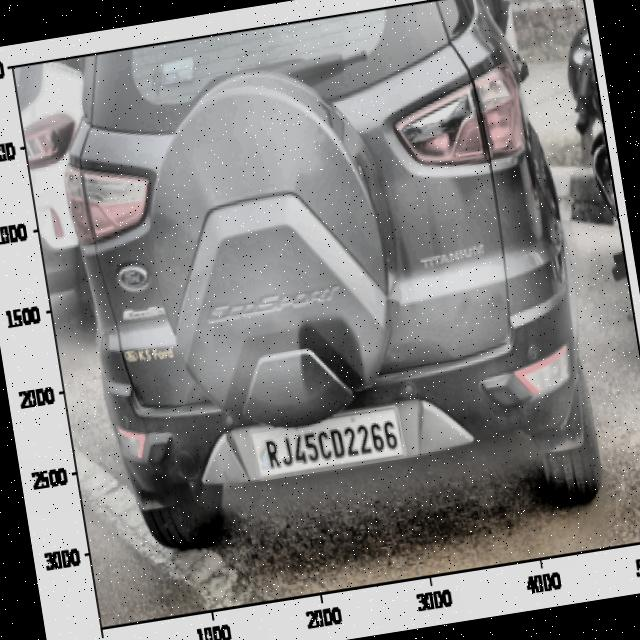license_plate: (255, 403, 408, 484)
